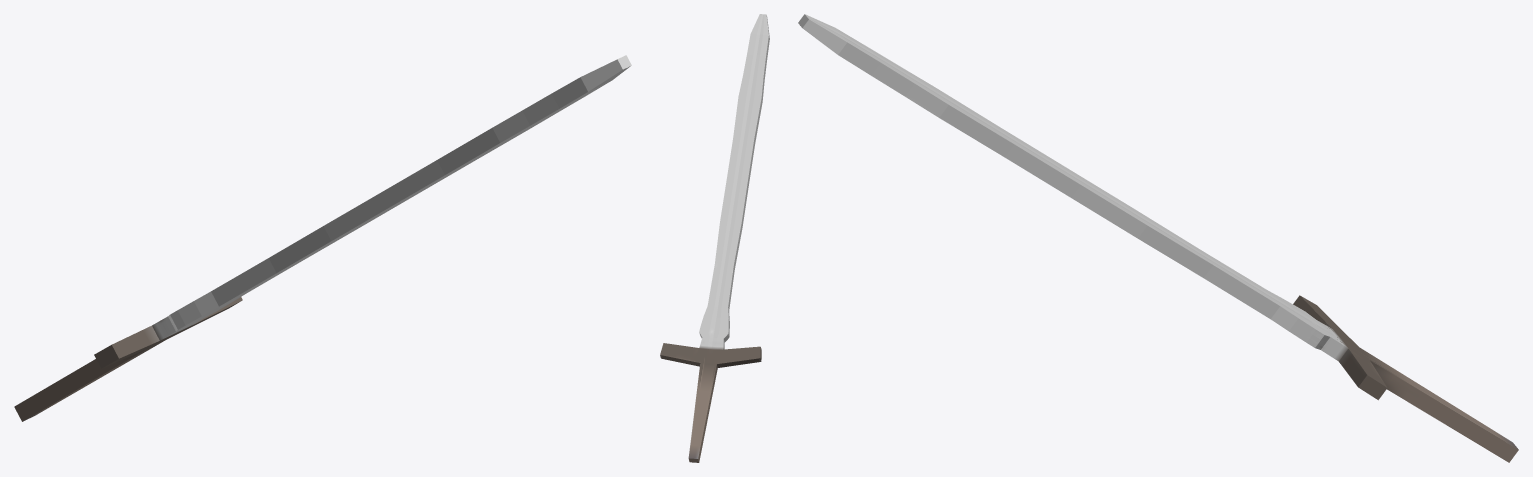
Rendered from sword_000023.obj.
3 renders of one model, left to right at view 1: azimuth 30°, elevation 25°; view 2: azimuth 150°, elevation 25°; view 3: azimuth 270°, elevation 25°, orthographic. The views are drawn at different scales.
Bounding box in the file's own units: 0.2165 × 0.4415 × 0.5253.
